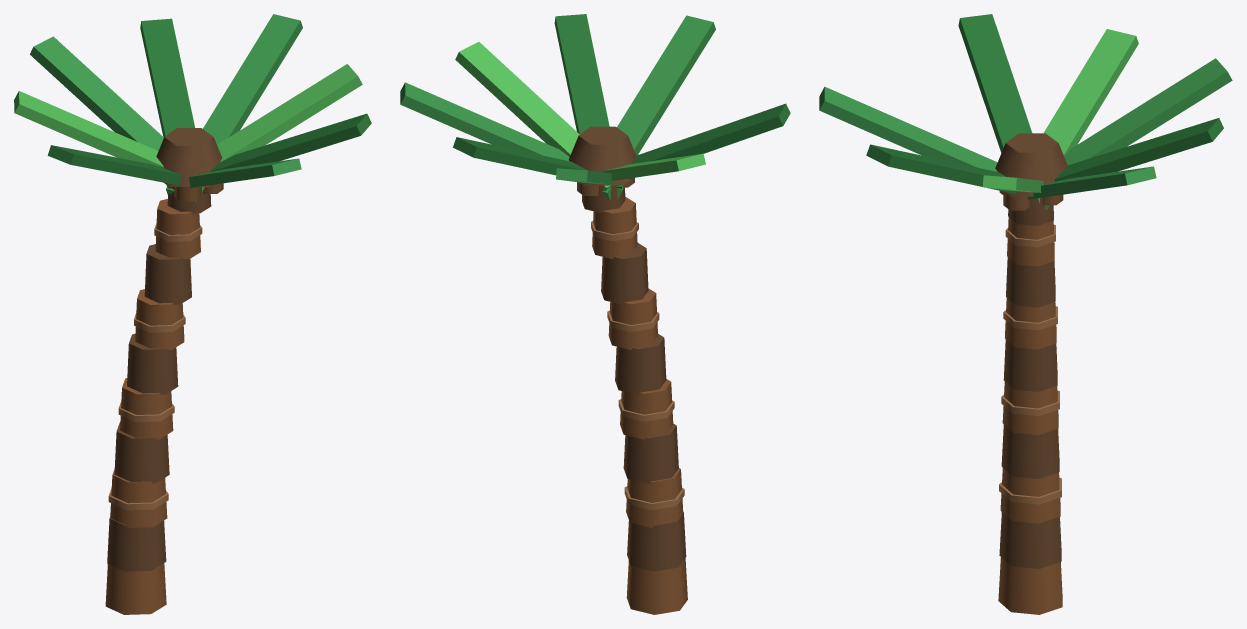
File: tree_palm.glb
The picture shows the model from 3 angles, left to right: view 1: azimuth 30°, elevation 25°; view 2: azimuth 150°, elevation 25°; view 3: azimuth 270°, elevation 25°; orthographic projection. The views are drawn at different scales.
Parts seen in each view (by area): view 1: tree_palm; view 2: tree_palm; view 3: tree_palm.
Boxes of the visible parts, <box> form: tree_palm: <box>14,14,371,614</box>; tree_palm: <box>400,14,790,614</box>; tree_palm: <box>819,14,1232,614</box>.
Size of the model in its own units: 3.28 by 4.91 by 3.43.
